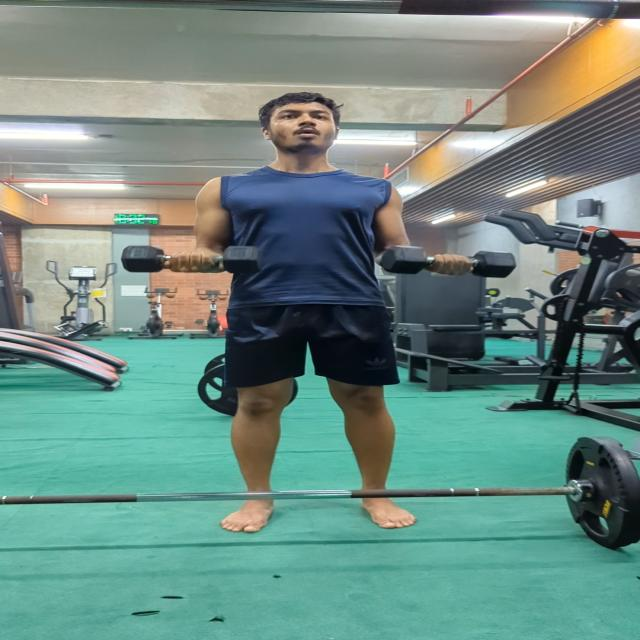Normal_DumbbellBicepCurls: (120, 86, 519, 536)
